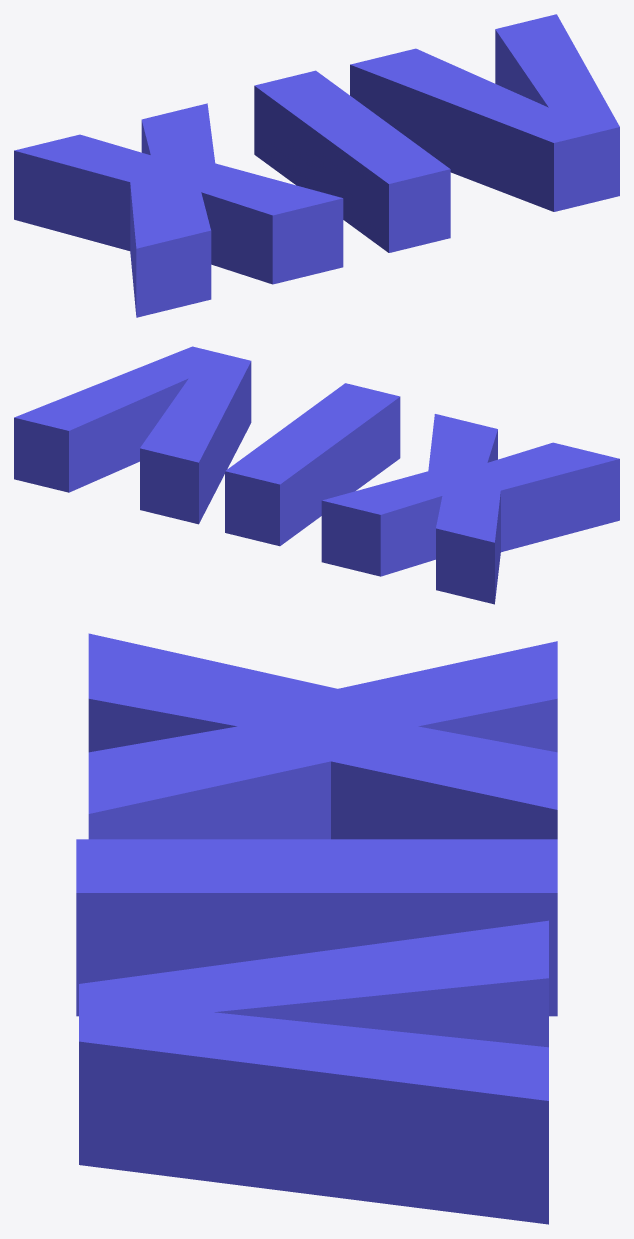
3 views of the same model, one above another, from view 1: azimuth 30°, elevation 25°; view 2: azimuth 150°, elevation 25°; view 3: azimuth 270°, elevation 25° (orthographic). The views are drawn at different scales.
Visible parts, largest first — view 1: X1, V_1_1, I_2_1; view 2: X1, V_1_1, I_2_1; view 3: V_1_1, X1, I_2_1.
Part boxes in pixels (left/top/right/bottom): X1: left=14, top=103, right=343, bottom=317; V_1_1: left=350, top=14, right=619, bottom=211; I_2_1: left=254, top=70, right=450, bottom=252; X1: left=321, top=414, right=619, bottom=604; V_1_1: left=14, top=346, right=251, bottom=524; I_2_1: left=225, top=383, right=400, bottom=546; V_1_1: left=79, top=920, right=548, bottom=1224; X1: left=88, top=633, right=557, bottom=839; I_2_1: left=76, top=839, right=557, bottom=1016.
Bounding box in the file's own units: 1.25 × 0.1639 × 0.5301.
